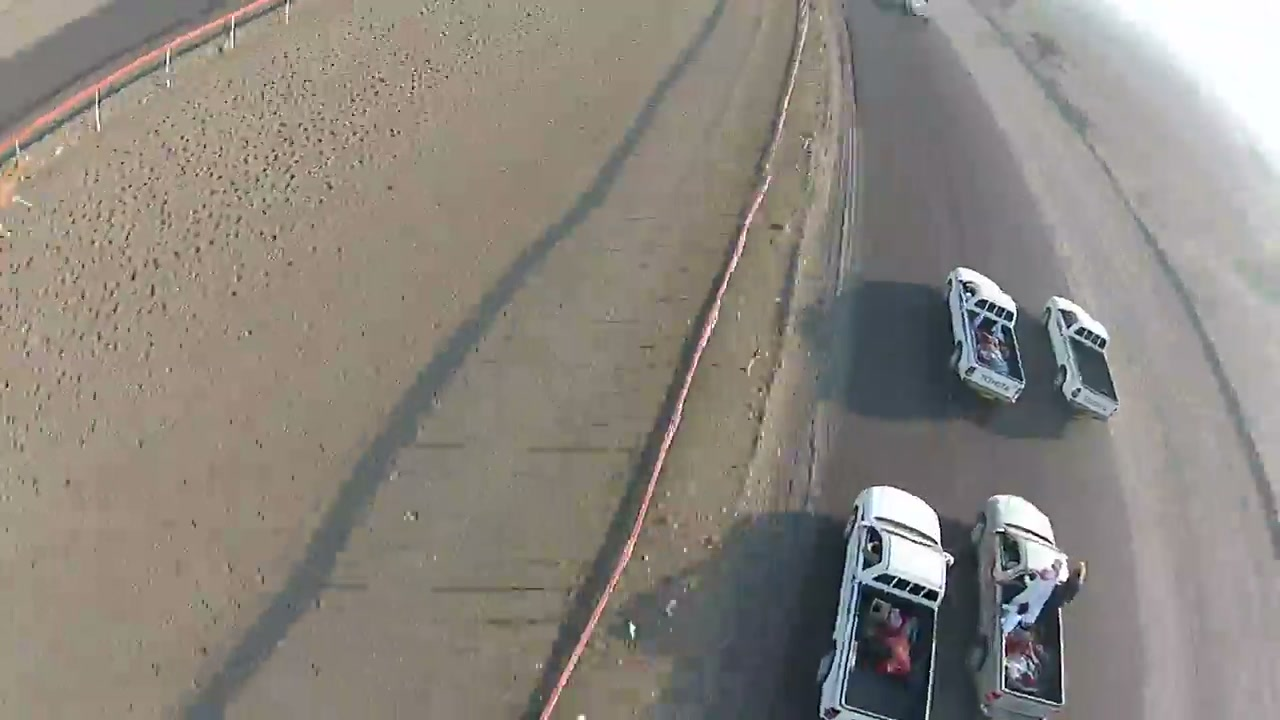animal_foot_print: (31, 16, 473, 420)
